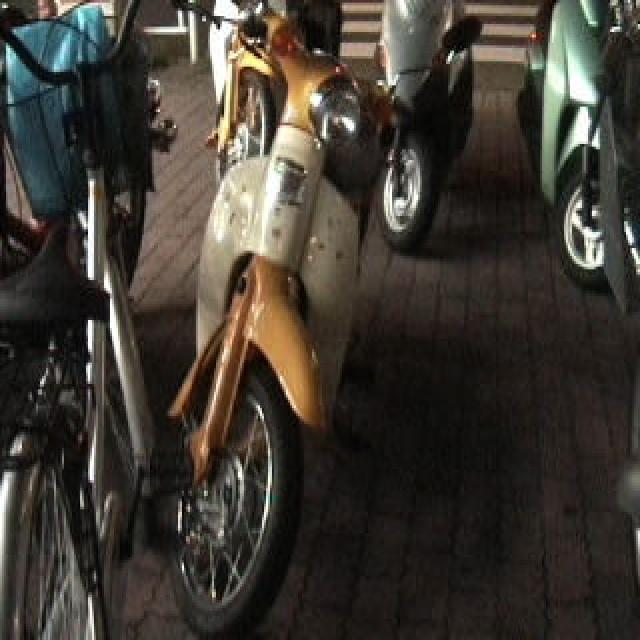bicycle: (1, 1, 161, 638)
motorbike: (153, 1, 393, 638), (515, 1, 639, 292), (363, 1, 487, 249), (195, 1, 285, 190)
